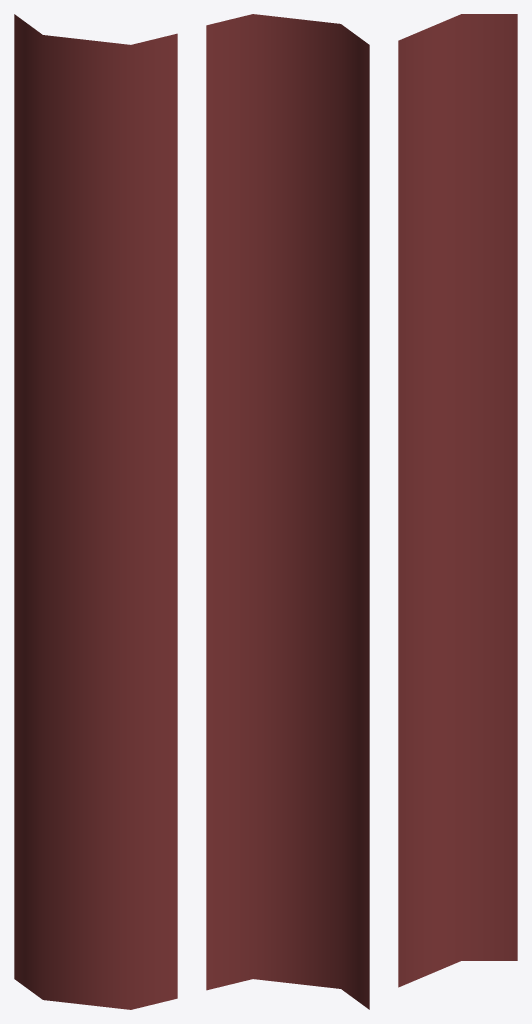
The model's file is Decal_wallIn_A_corner_outPatch.FBX.
The picture shows the model from 3 angles, left to right: view 1: azimuth 30°, elevation 25°; view 2: azimuth 210°, elevation 25°; view 3: azimuth 270°, elevation 25°; orthographic projection.
Parts seen in each view (by area): view 1: Decal_wallIn_A_corner_outPatch; view 2: Decal_wallIn_A_corner_outPatch; view 3: Decal_wallIn_A_corner_outPatch.
Part boxes in pixels (box(x1,y1,x2,y2)): Decal_wallIn_A_corner_outPatch: box(14, 14, 177, 1009); Decal_wallIn_A_corner_outPatch: box(206, 14, 369, 1009); Decal_wallIn_A_corner_outPatch: box(398, 14, 517, 987).
Bounding box in the file's own units: 18.36 × 165 × 18.88.
